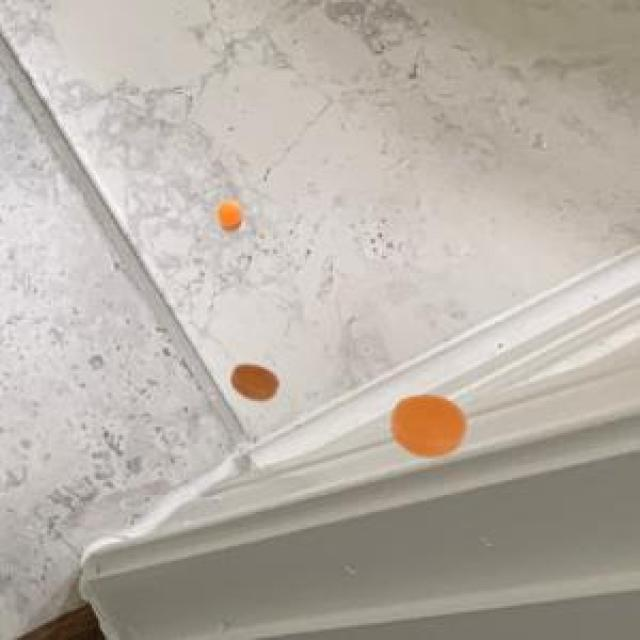Bactidol: (384, 373, 482, 473), (226, 343, 288, 411), (202, 179, 260, 241)
